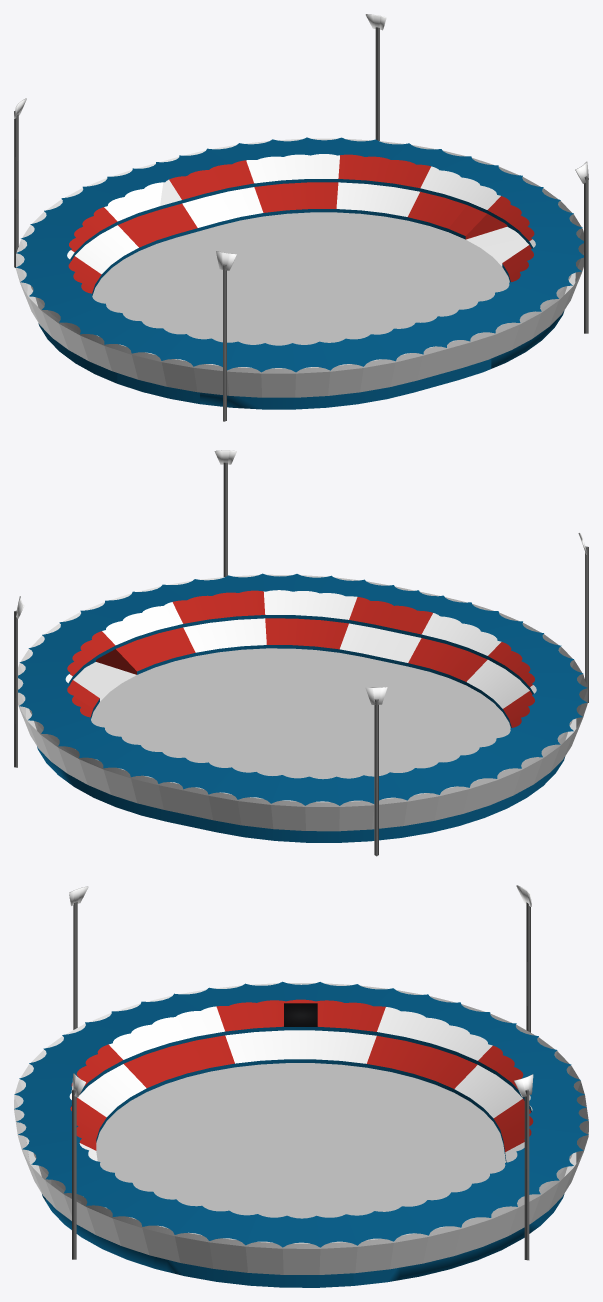
The model's file is Circle Arena.fbx.
The picture shows the model from 3 angles, top to bottom: view 1: azimuth 30°, elevation 25°; view 2: azimuth 150°, elevation 25°; view 3: azimuth 270°, elevation 25°; orthographic projection. The views are drawn at different scales.
Parts seen in each view (by area): view 1: Stadium; view 2: Stadium; view 3: Stadium.
Boxes of the visible parts, box(x1,y1,x2,y2) form: Stadium: box(14, 14, 588, 421); Stadium: box(14, 450, 588, 856); Stadium: box(14, 885, 588, 1287).
Bounding box in the file's own units: 2263 × 715 × 2067.
